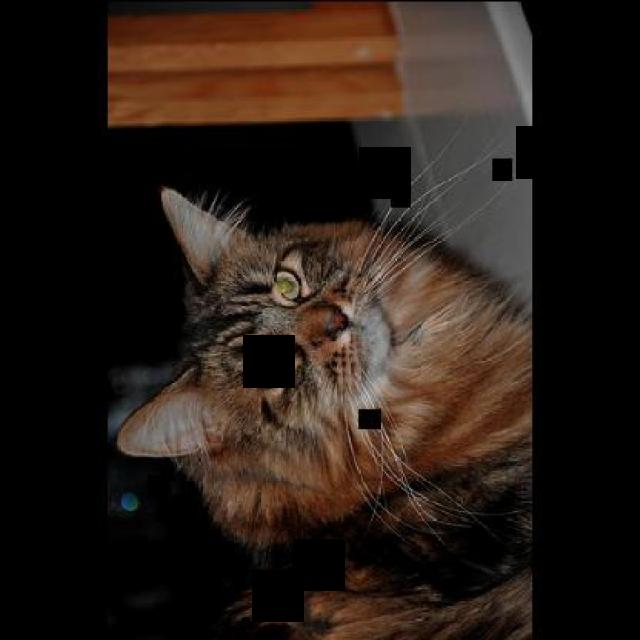unauthorized: (114, 164, 532, 638)
